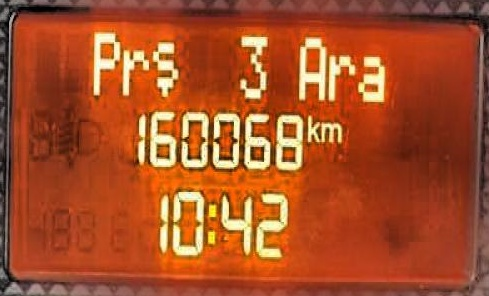0: (170, 187, 205, 257), (179, 108, 209, 168), (211, 108, 240, 168)
1: (156, 190, 169, 253), (133, 108, 146, 163)
2: (254, 188, 289, 258)
3: (236, 30, 269, 100)
4: (218, 190, 251, 256)
6: (241, 108, 272, 168), (148, 108, 178, 167)
8: (273, 108, 304, 170)
X: (295, 32, 326, 102), (89, 28, 120, 97), (150, 37, 179, 97), (120, 45, 149, 96), (327, 50, 355, 100), (356, 52, 383, 102), (319, 118, 343, 143), (206, 198, 216, 245), (305, 110, 319, 141)
